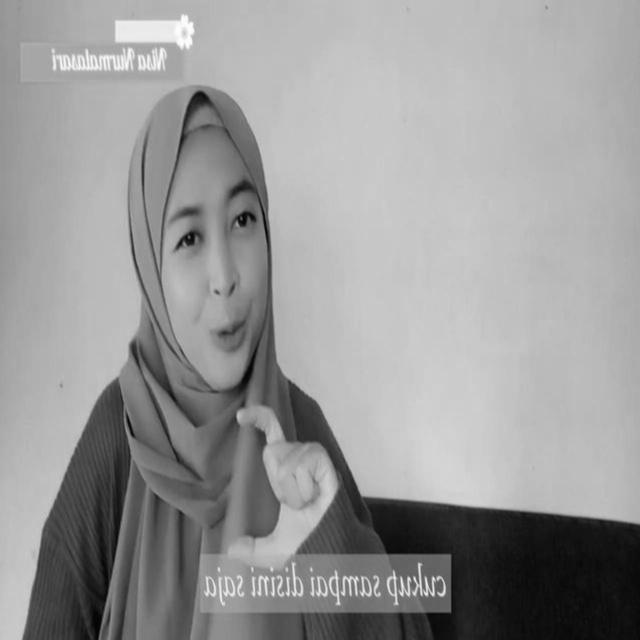C: (220, 402, 330, 565)
